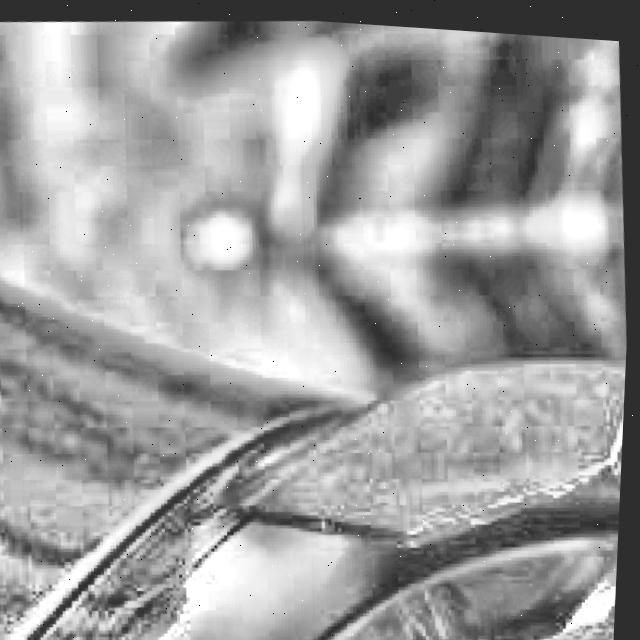tail_lamp: (116, 457, 620, 640)
